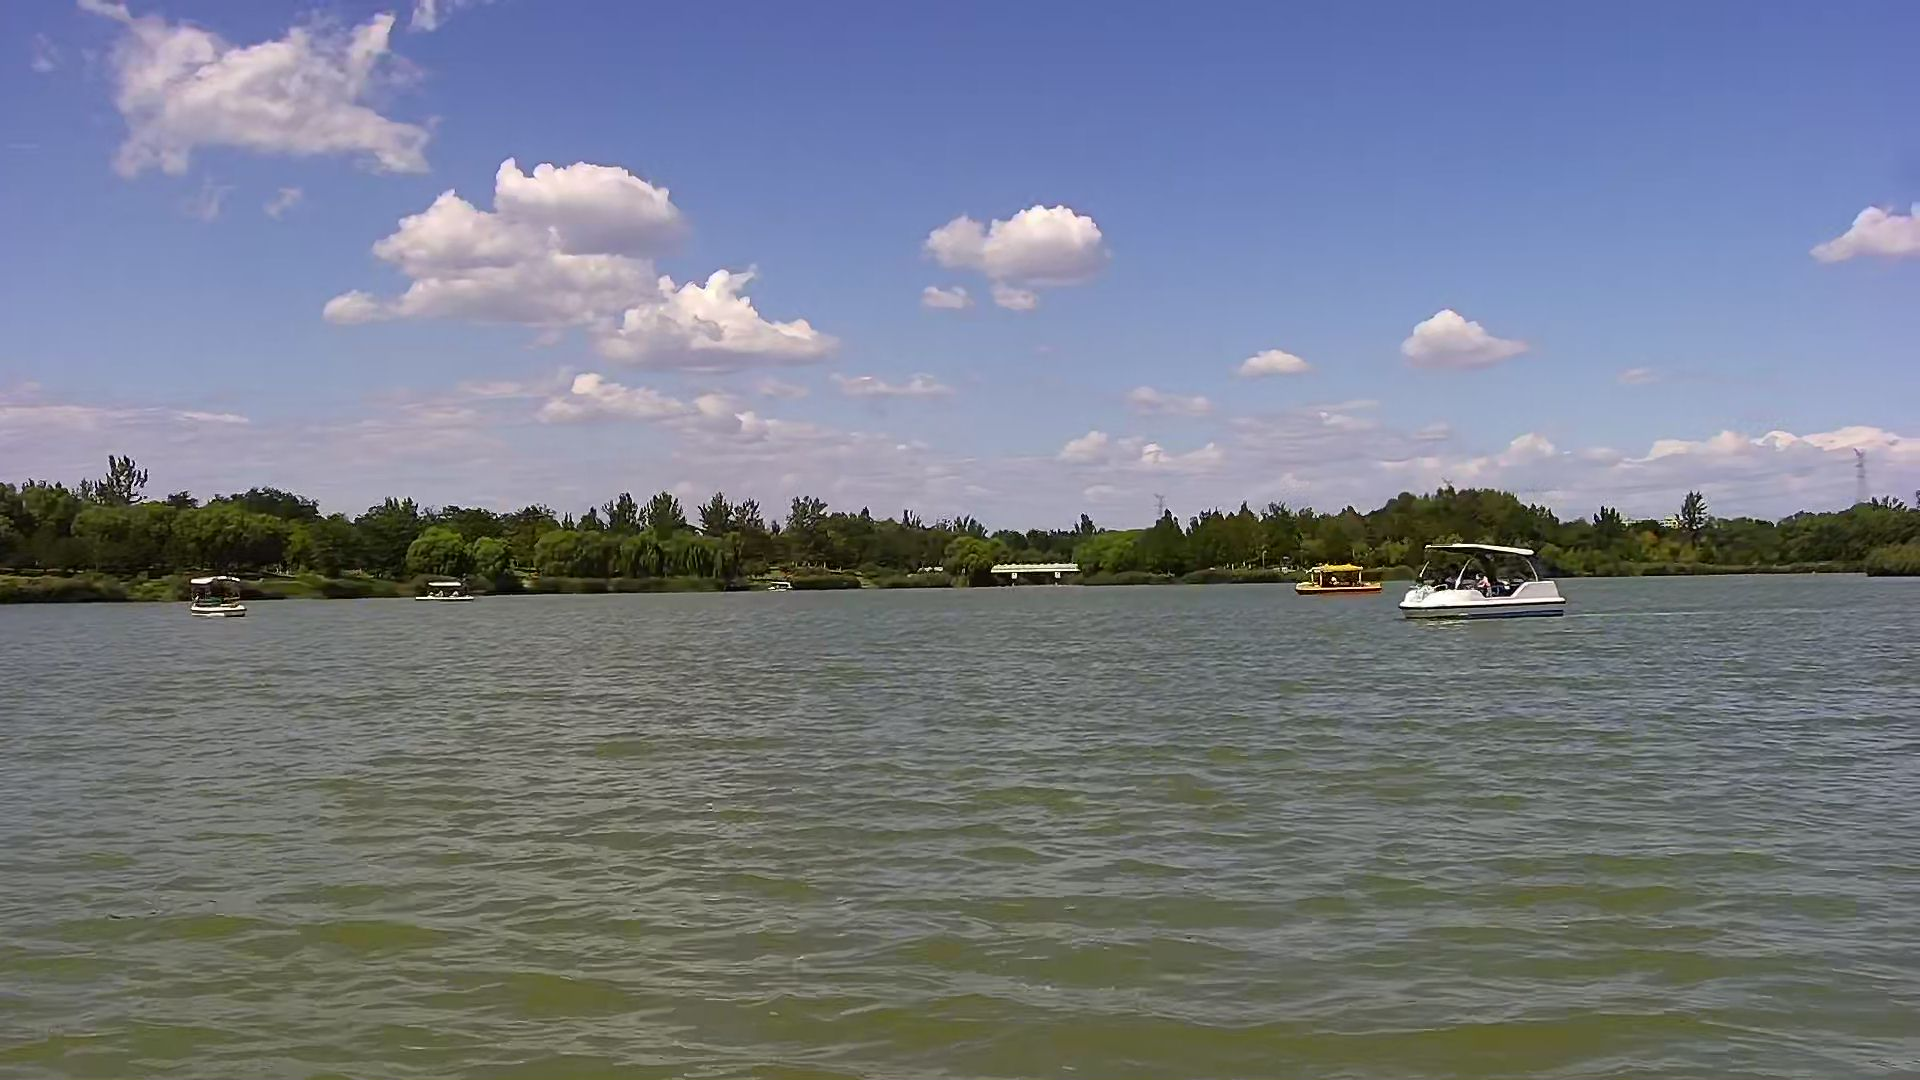boat: (1400, 542, 1563, 622), (1296, 564, 1382, 595), (193, 574, 243, 617), (415, 583, 469, 605)
bridge: (996, 560, 1075, 585)
